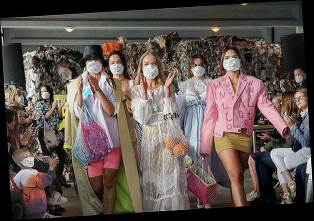with_mask: (222, 53, 241, 73), (142, 60, 160, 80), (85, 57, 103, 75), (108, 59, 125, 76), (190, 61, 206, 79), (21, 154, 36, 170), (40, 89, 51, 101), (293, 72, 304, 84), (17, 93, 24, 105)
without_mask: (294, 94, 307, 110), (18, 112, 27, 126), (10, 117, 17, 133)
